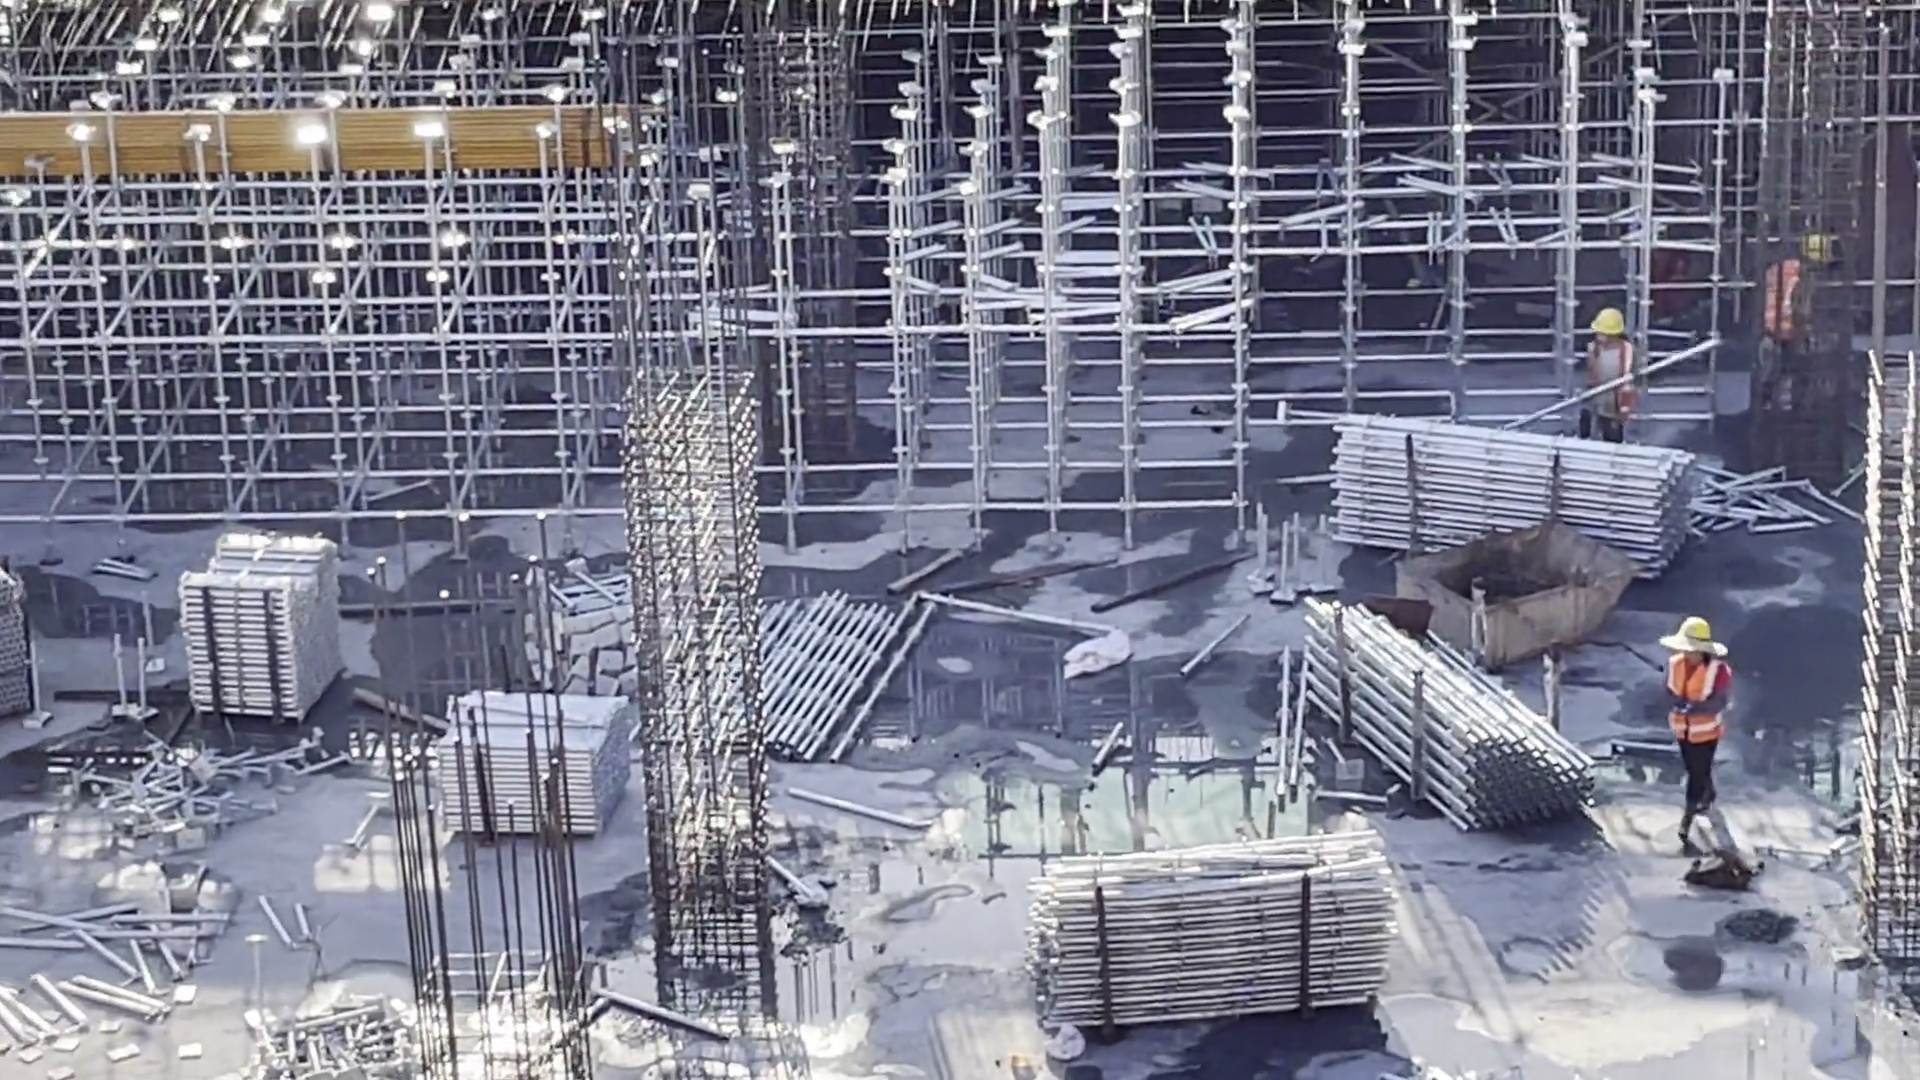helmet: (1663, 622, 1725, 657), (1800, 234, 1834, 267), (1593, 310, 1621, 337)
hopper: (1403, 531, 1626, 656)
person: (1740, 222, 1838, 439), (1651, 619, 1731, 841), (1573, 302, 1638, 443)
scaffold: (1345, 412, 1703, 555), (1020, 860, 1355, 1006), (1339, 597, 1545, 828), (186, 526, 340, 731), (441, 685, 637, 837), (678, 611, 884, 747)
vest: (1661, 665, 1727, 745), (1763, 264, 1807, 348), (1581, 346, 1632, 413)
